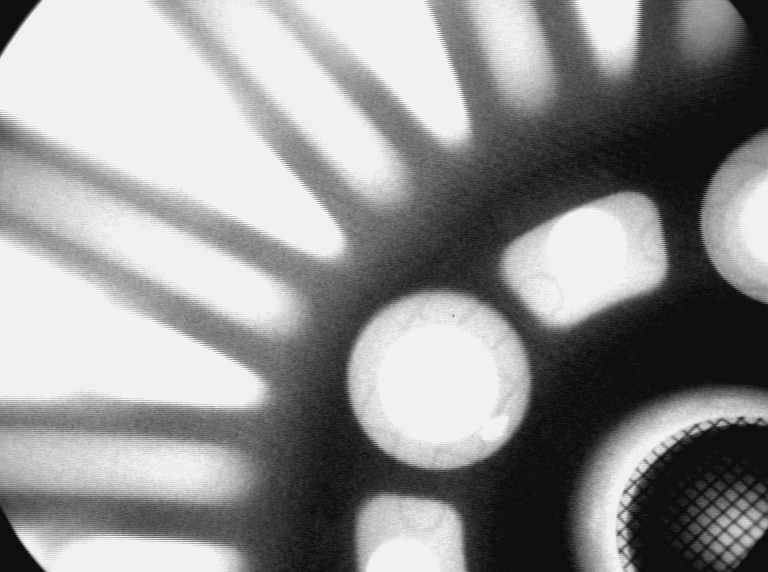defect: (479, 412, 513, 447)
